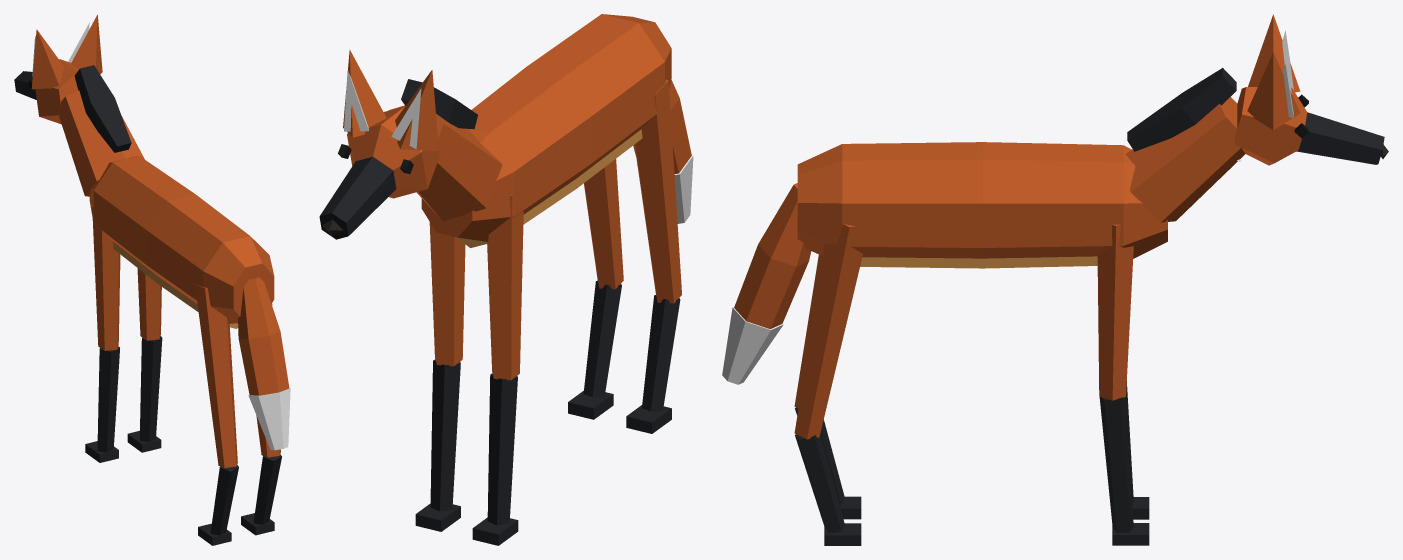
Rendered from lobo_guara.glb.
3 views of the same model, side by side, from view 1: azimuth 30°, elevation 25°; view 2: azimuth 150°, elevation 25°; view 3: azimuth 270°, elevation 25° (orthographic). The views are drawn at different scales.
Visible parts, largest first — view 1: corpo; view 2: corpo; view 3: corpo.
Boxes of the visible parts, x1,y1,x2,y2 form: corpo: [14, 14, 290, 545]; corpo: [319, 14, 693, 545]; corpo: [722, 14, 1388, 545].
Bounding box in the file's own units: 0.1586 × 0.817 × 1.
